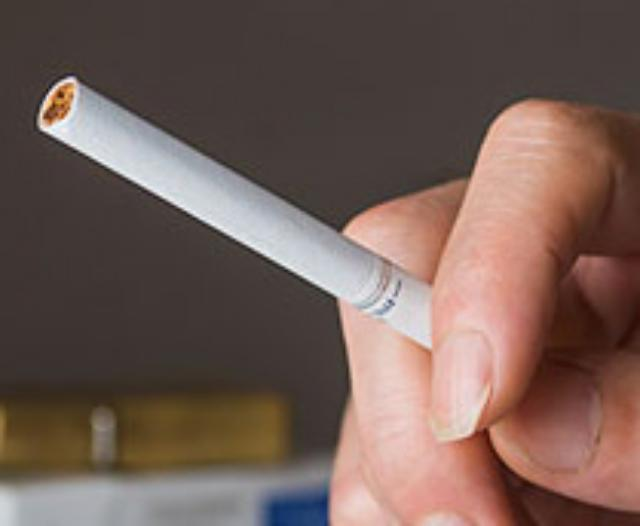Cigarette: (34, 74, 510, 370)
